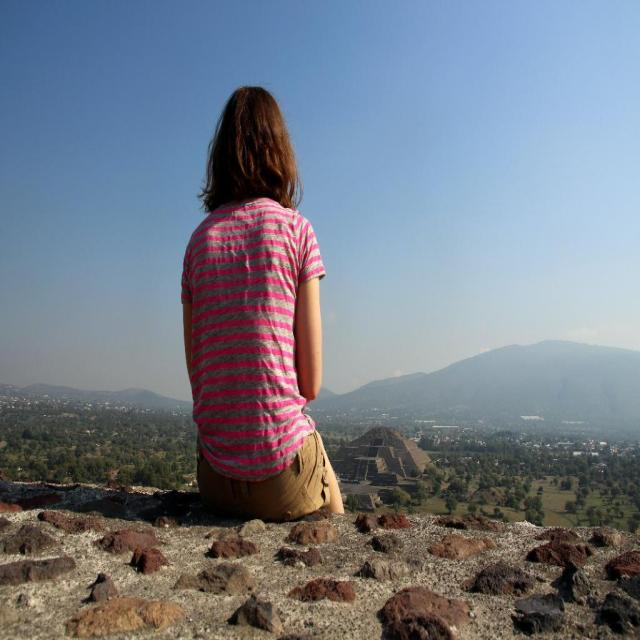no_helmet: (192, 146, 300, 207)
